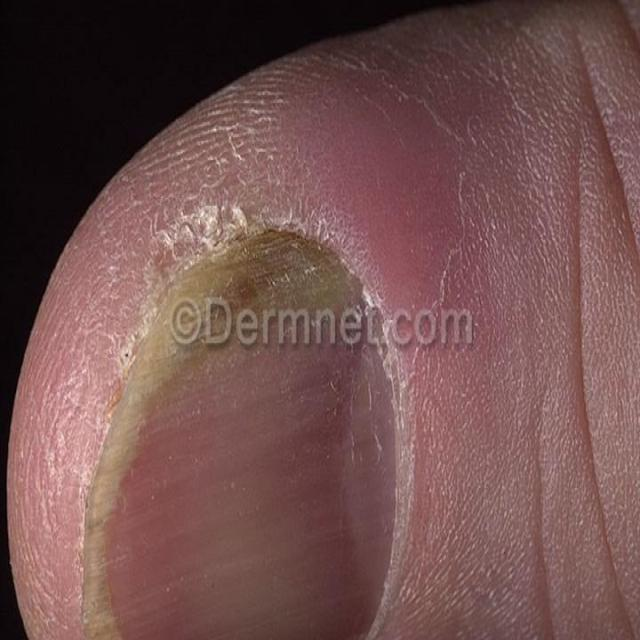Nail: (82, 232, 397, 640)
